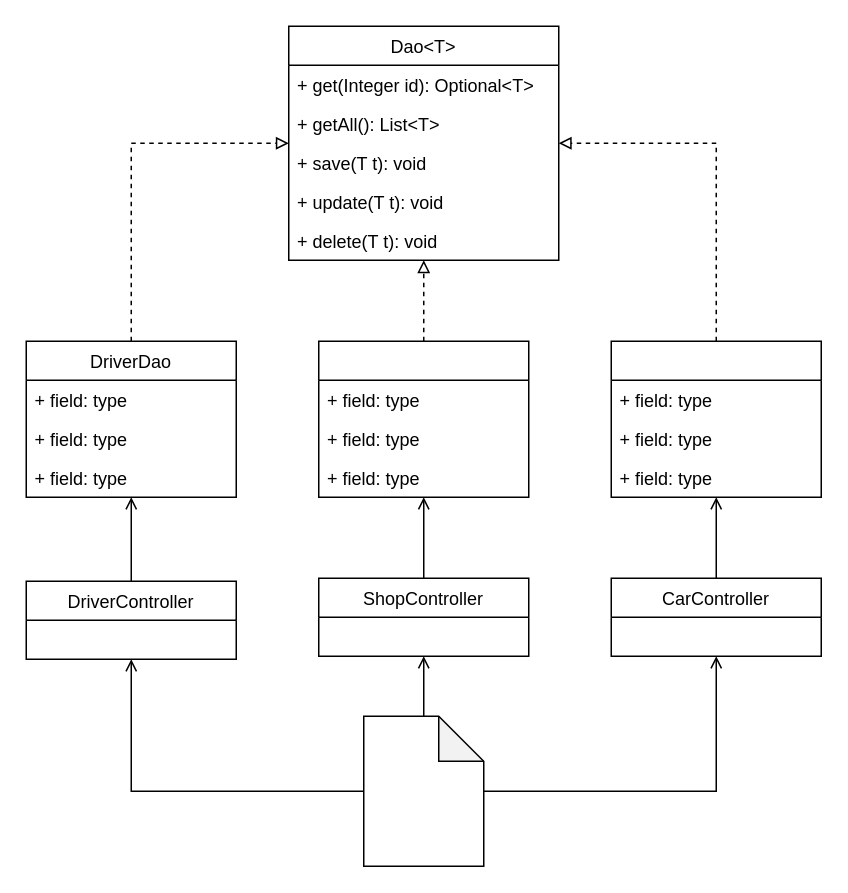
This 848x893 diagram has some shape labels left out. The box of each missing label's shape, as (x1, y1, x2, y2) in pixels:
CarDao: (610, 340, 821, 497)
Handle both logic and responces.: (362, 715, 484, 866)
ShopDao: (317, 340, 529, 497)
